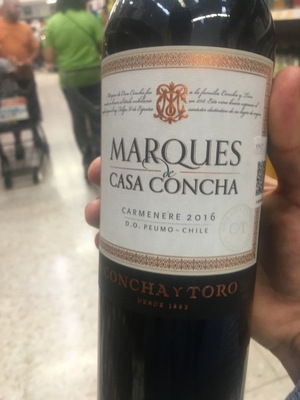marques de casa concha carmenere: (98, 9, 286, 400)
